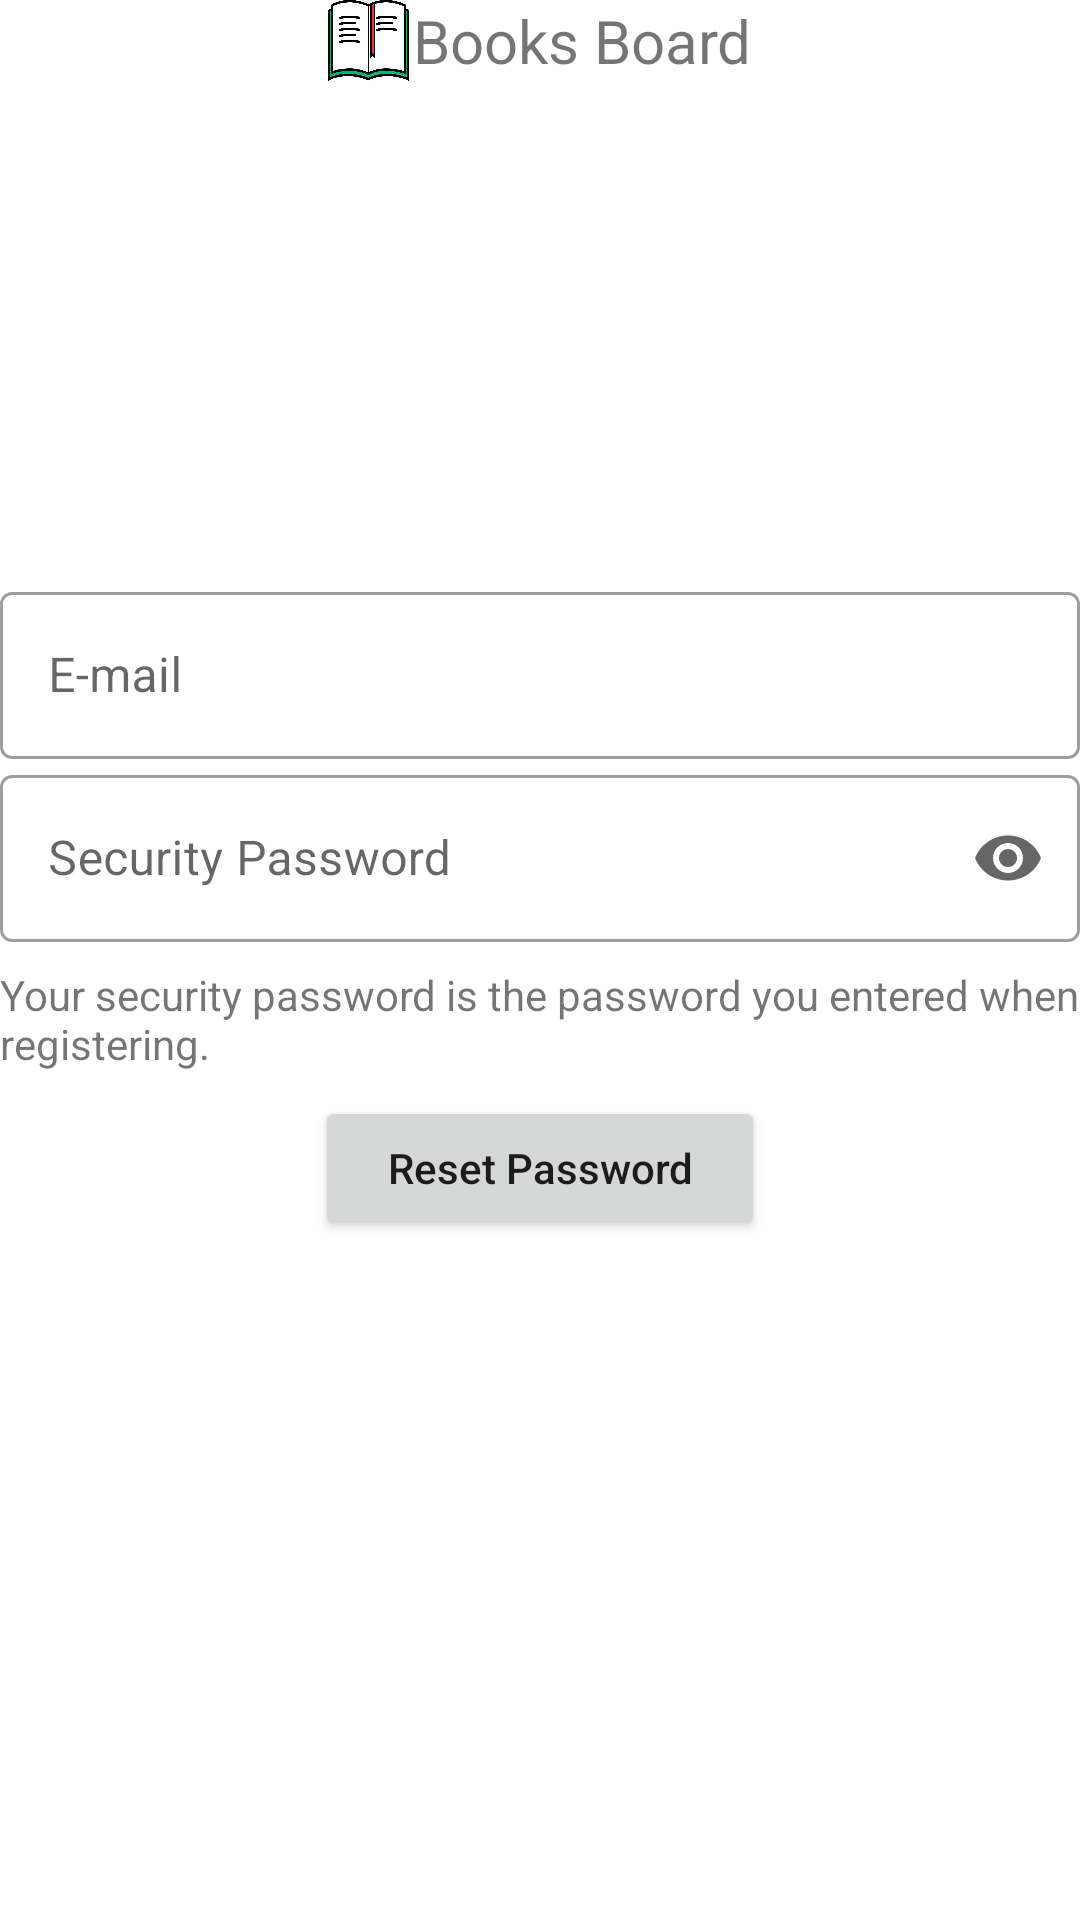

Where icons sit on this 1080 × 1920 app screen, as (x1, y1, x2, y2):
App Icon: (328, 0, 409, 81)
